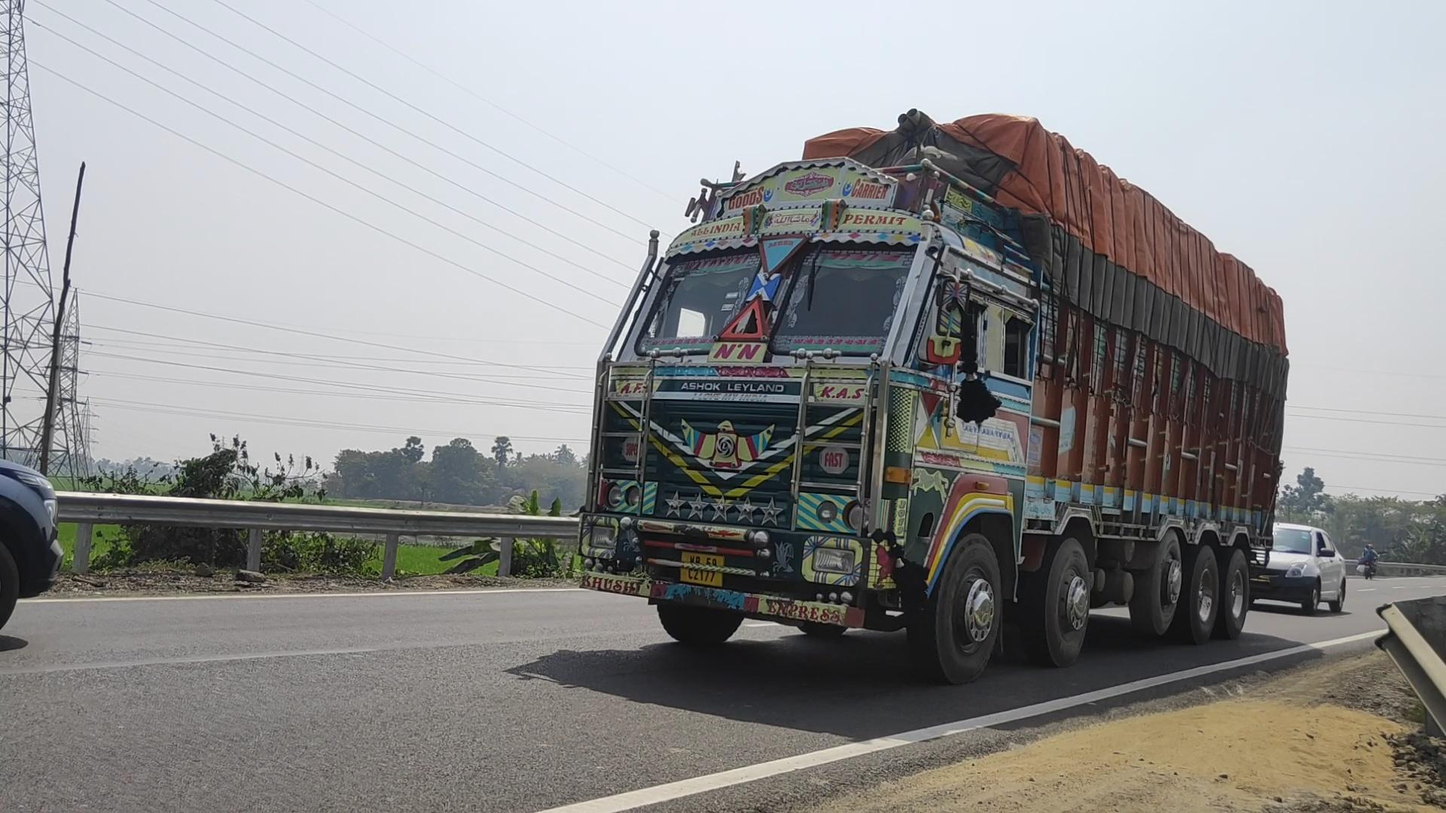bike: (1357, 543, 1380, 580)
car: (1246, 520, 1347, 617)
truck: (578, 111, 1289, 685)
